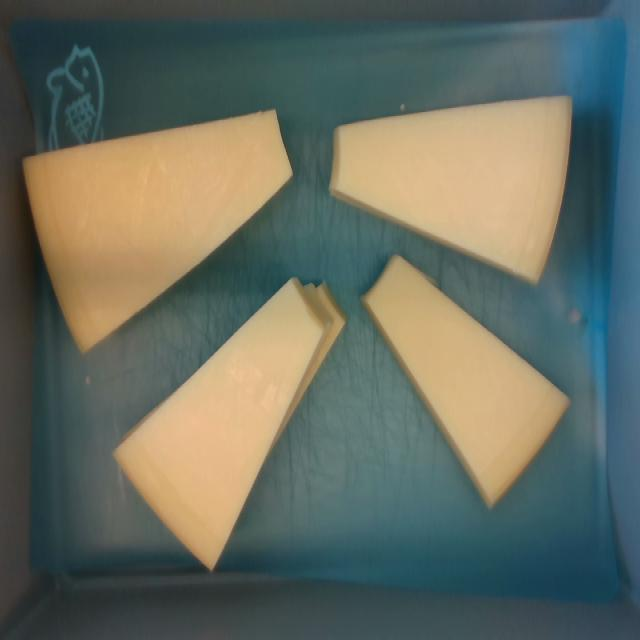cheese: (26, 111, 291, 351), (116, 279, 323, 568), (364, 256, 567, 505), (330, 96, 571, 281)
